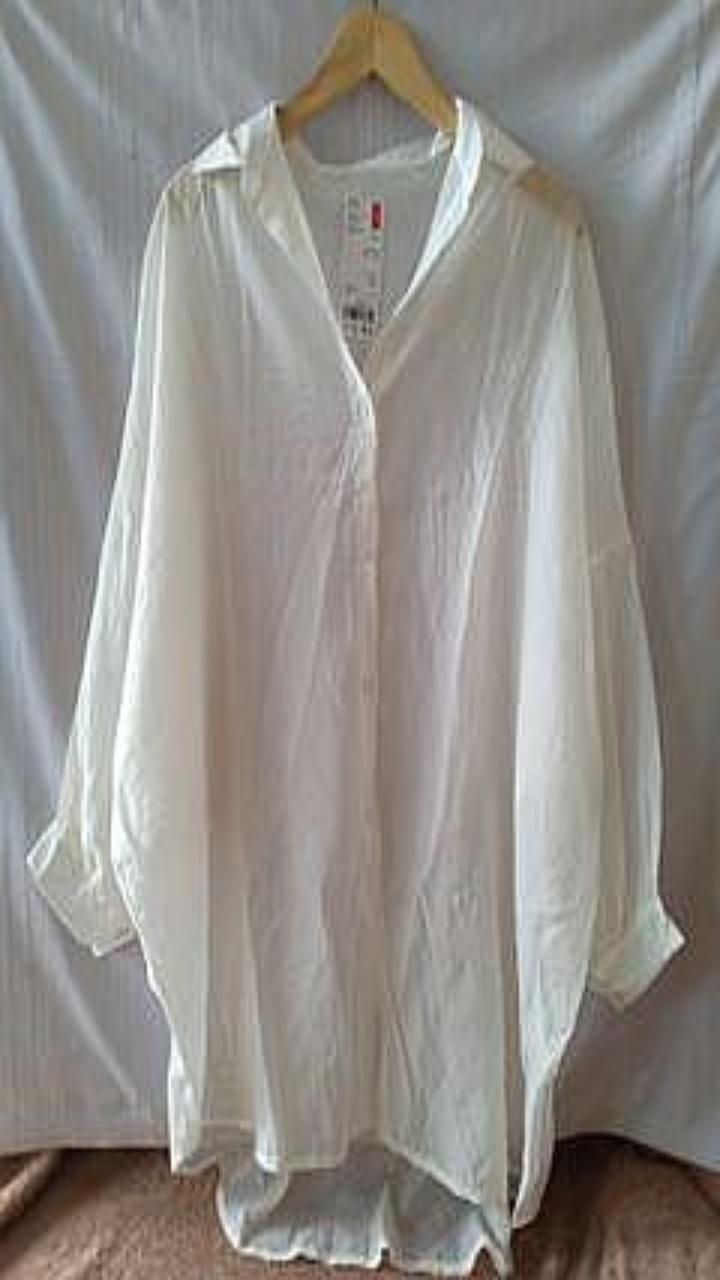T-Shirt: (28, 98, 683, 1274)
